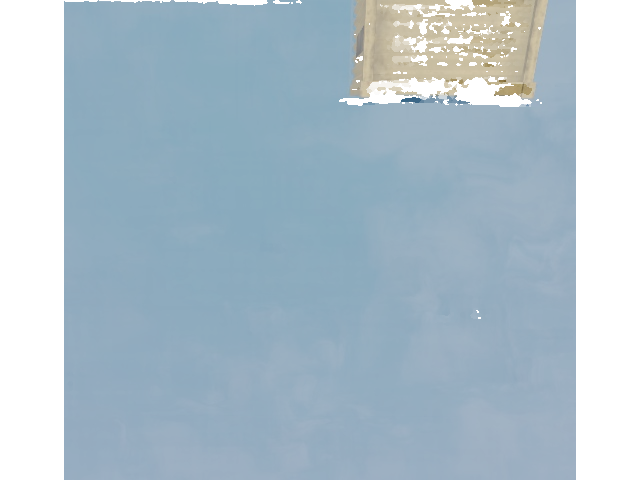container3: (347, 0, 547, 105)
